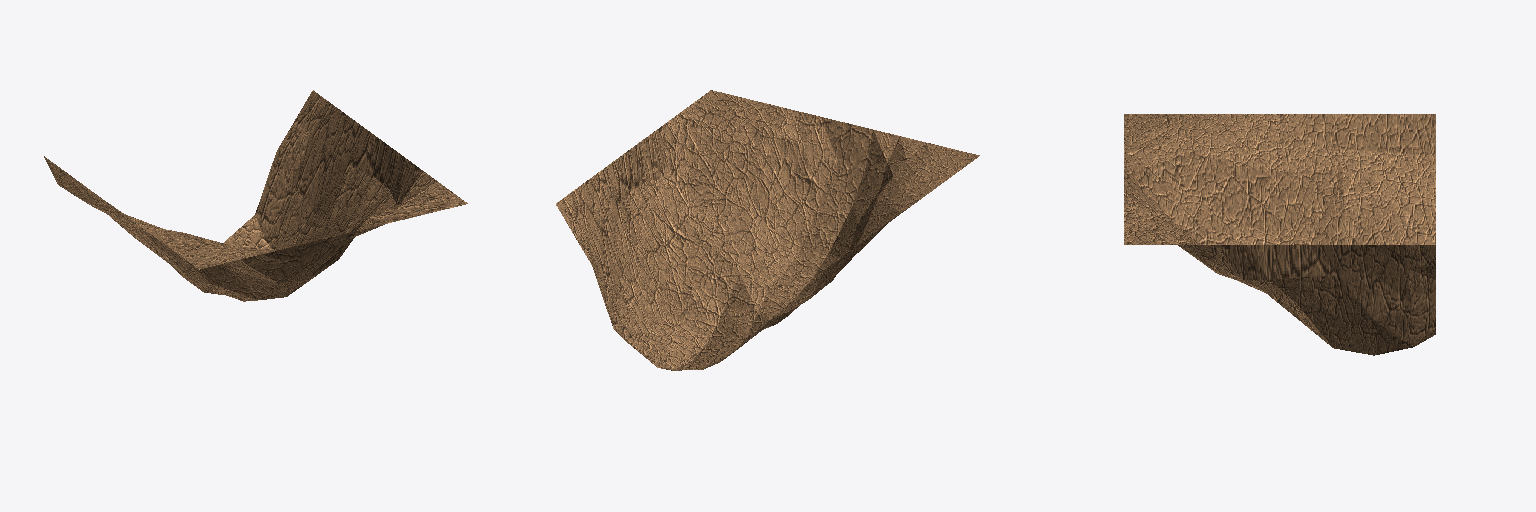
3 views of the same model, side by side, from view 1: azimuth 30°, elevation 25°; view 2: azimuth 150°, elevation 25°; view 3: azimuth 270°, elevation 25° (orthographic).
Visible parts, largest first — view 1: polySurface1 trench2; view 2: polySurface1 trench2; view 3: polySurface1 trench2.
Part boxes in pixels (x1,y1,x2,y2): polySurface1 trench2: (44,90,467,301); polySurface1 trench2: (556,90,979,370); polySurface1 trench2: (1124,114,1435,355).
Bounding box in the file's own units: 1 × 0.5519 × 1.01.
Materials: 1 (1 with a texture image).